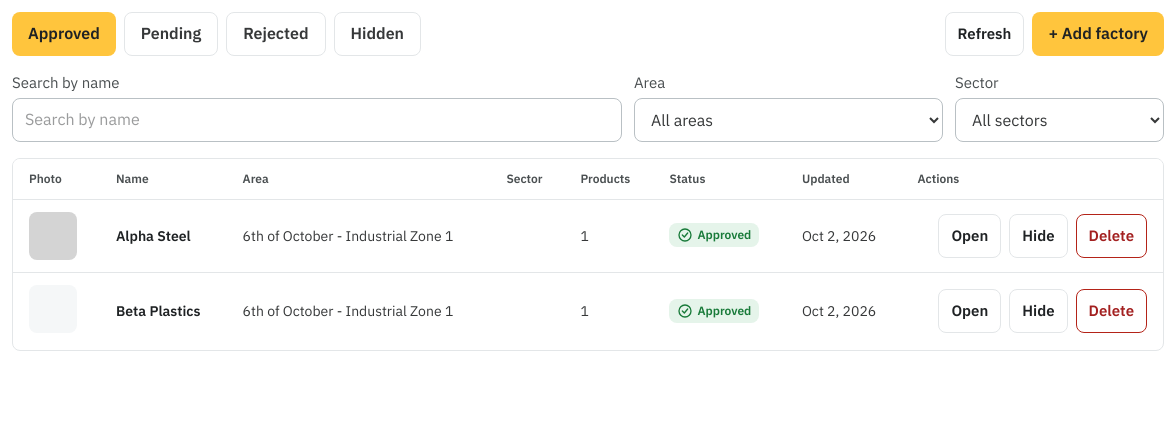
Test: FactoriesPage › on an error shows the message and refetches the page
Expected: the text "Alpha Steel" is shown, [116,227,191,245]
Step 1. Click the button with aria-label "Hide Alpha Steel" → (1038, 236), box [1009,214,1068,258]
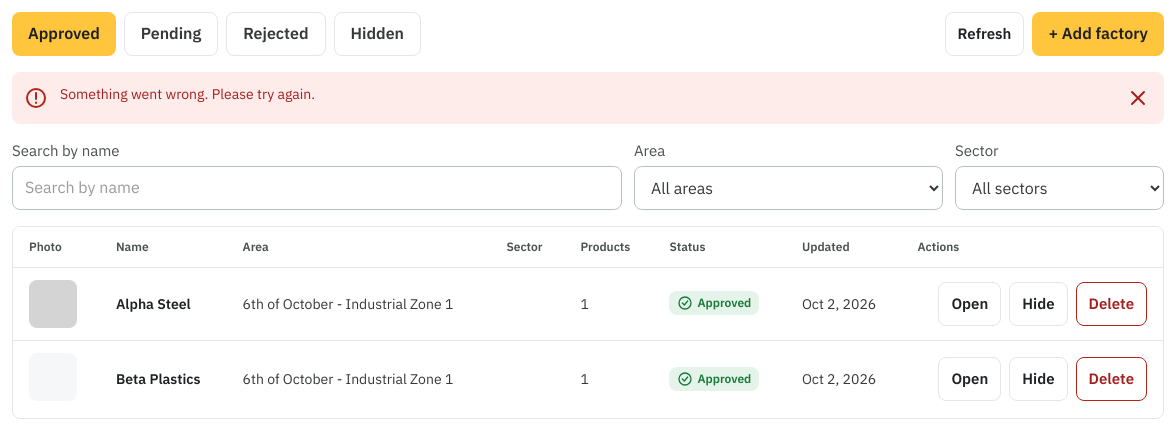
Expected: the text "Alpha Steel" is shown, [116,295,191,313]
Result: the text "Something went wrong. Please try again." is shown at [60,85,315,103]
